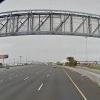Bridge: (1, 5, 97, 50)
